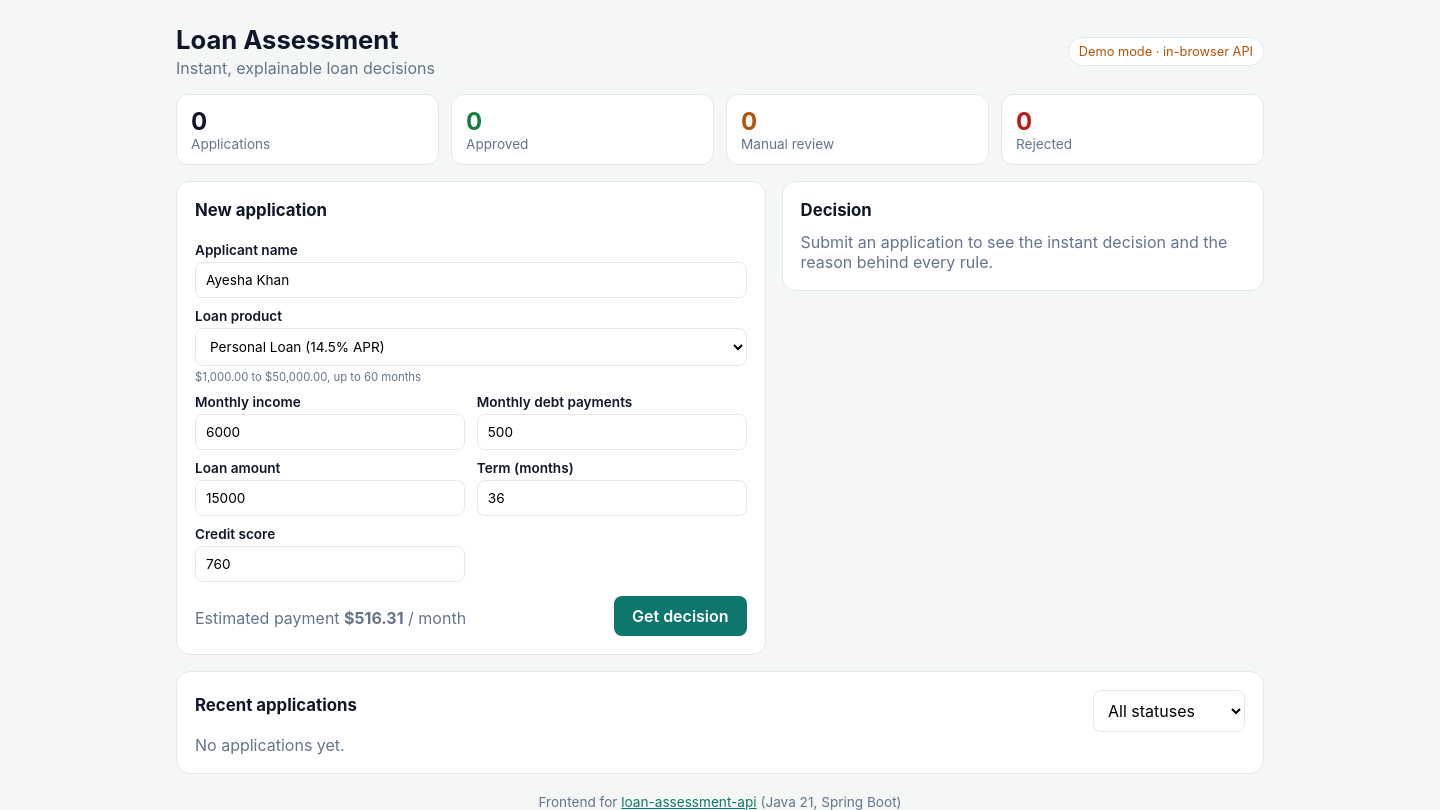
it: App › asks for collateral when a secured product is selected
This screenshot has width=1440, height=810.
Select "Home Loan (8.75% APR)" in the dropdown labelled "Loan product $1,000.00 to $50,000.00, up to 60 months": (471, 347) [195,328,747,366]
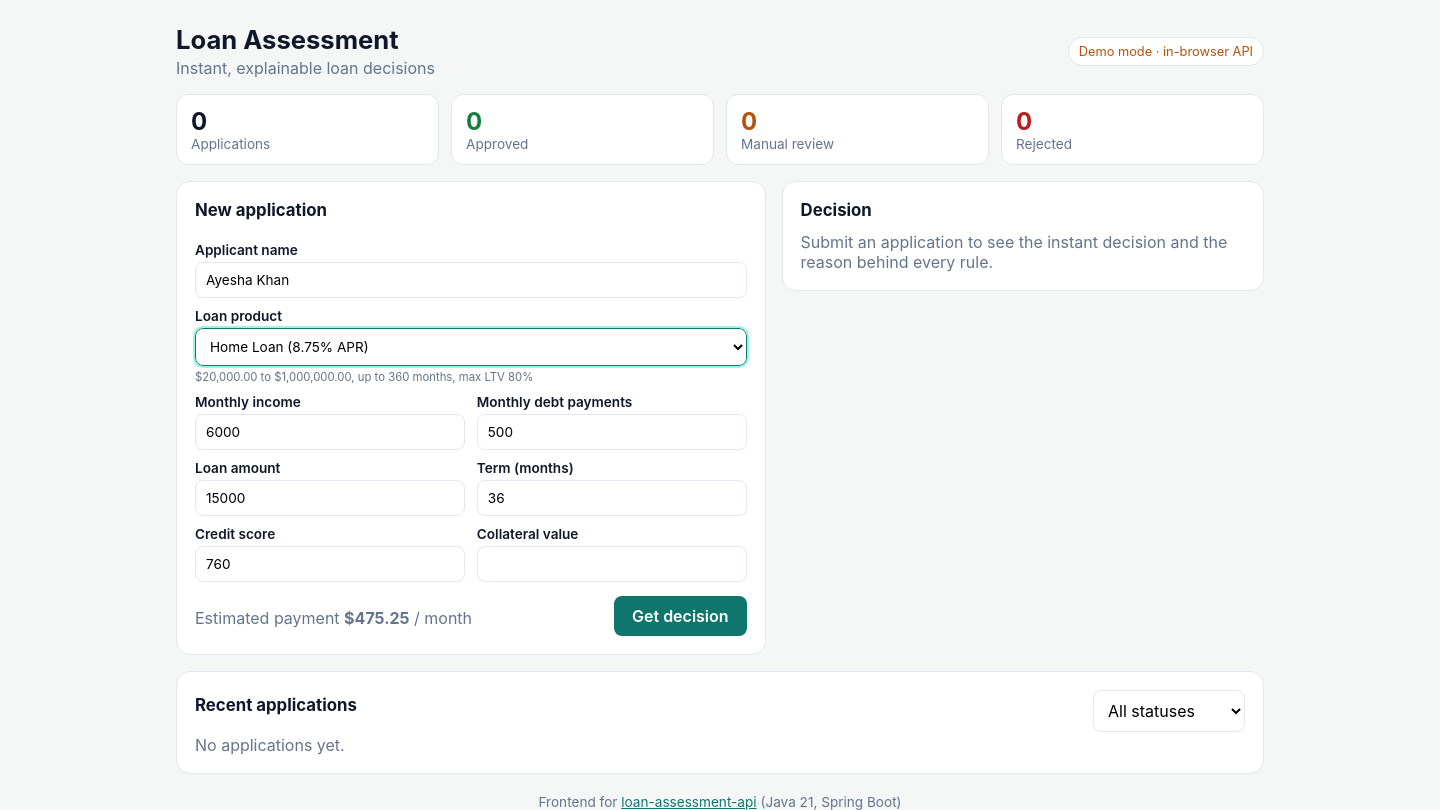
Click the button "Get decision": (680, 616) [614,596,747,636]
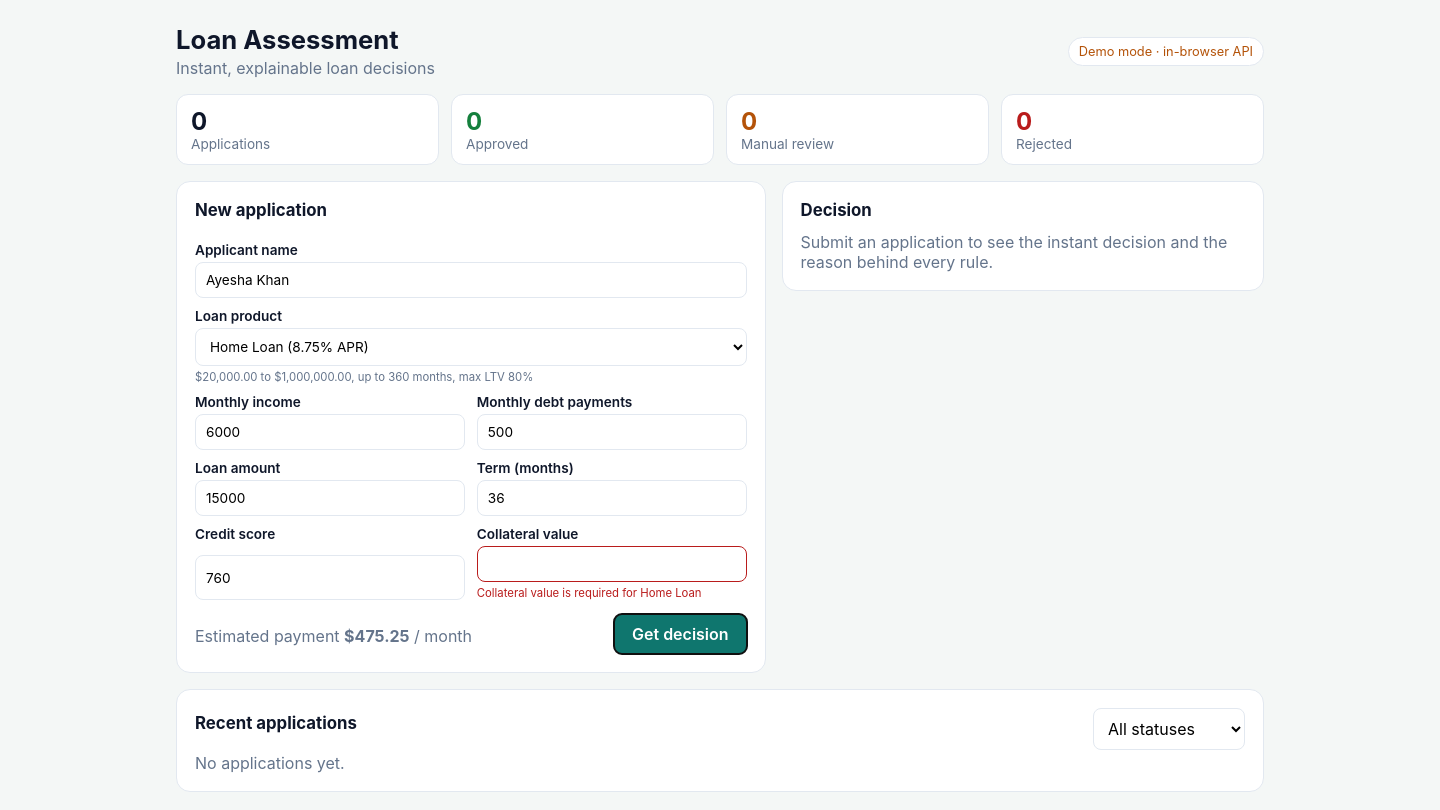
Now the text "Collateral value is required for Home Loan" is shown, box [477,586,702,600]
